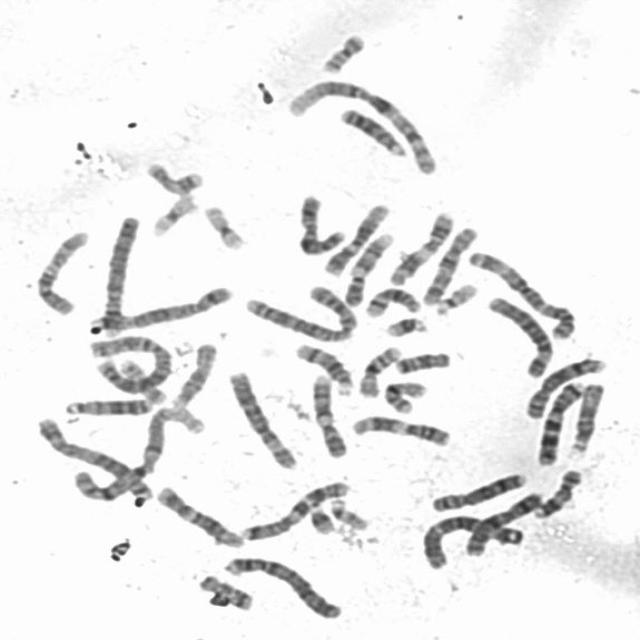A1: (279, 72, 442, 177), (68, 402, 209, 502)
A2: (239, 281, 361, 343), (85, 330, 172, 404)
A3: (461, 245, 579, 341), (416, 510, 528, 571)
B4: (219, 552, 345, 621), (94, 210, 144, 338)
B5: (30, 412, 155, 502), (89, 281, 236, 334)
C10: (29, 225, 92, 318), (417, 220, 481, 306)
C11: (383, 206, 456, 287), (346, 409, 454, 448)
C12: (150, 481, 246, 550), (318, 198, 393, 277)
C6: (223, 366, 300, 471), (481, 291, 556, 379)
C7: (236, 476, 352, 542), (532, 376, 588, 468)
C8: (521, 352, 611, 420), (426, 468, 530, 513)
C9: (339, 227, 396, 308), (307, 370, 351, 459)
D13: (335, 103, 411, 157), (59, 392, 156, 418)
D14: (291, 339, 356, 397), (362, 282, 423, 318)
D15: (166, 338, 220, 410), (564, 377, 609, 458)
E16: (354, 342, 405, 398), (378, 375, 429, 415)
E17: (531, 465, 585, 520), (140, 156, 207, 196)
E18: (195, 570, 256, 612), (391, 347, 454, 375)
F19: (146, 188, 200, 238), (200, 200, 250, 252)
F20: (114, 356, 168, 405), (316, 29, 369, 75)
G21: (380, 312, 430, 339), (305, 504, 337, 536)
G22: (431, 278, 481, 316), (325, 494, 372, 531)
X: (461, 488, 545, 558), (292, 188, 348, 256)
